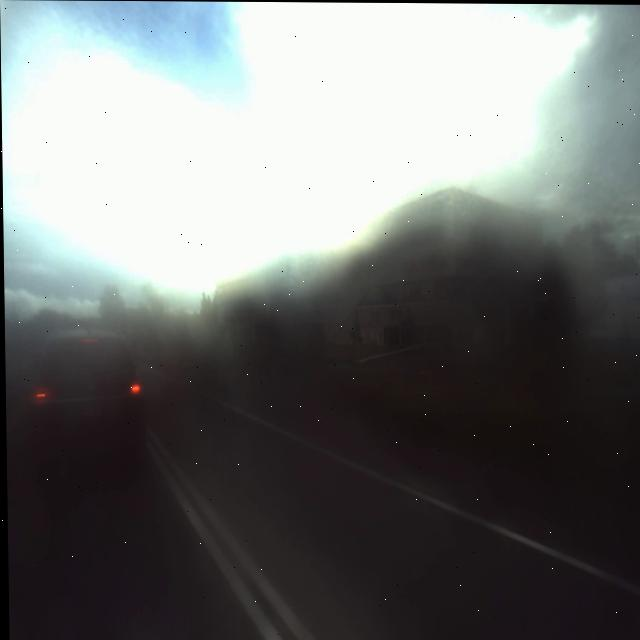car: (20, 304, 147, 501)
